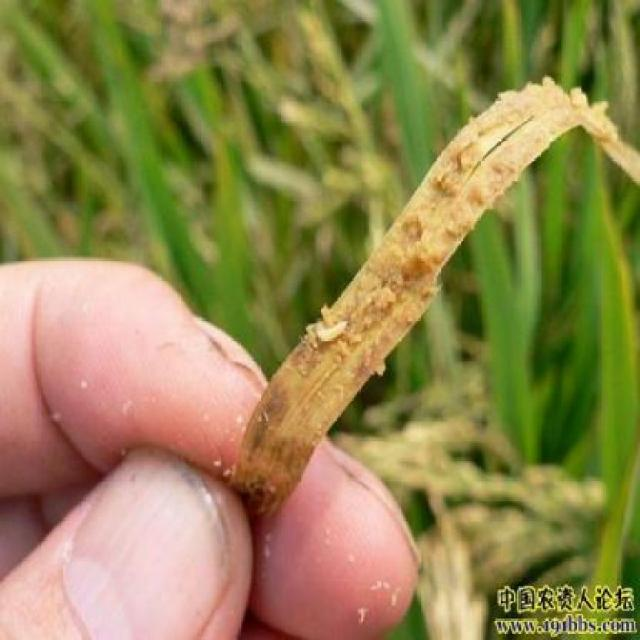whorl-maggot: (308, 319, 355, 343)
